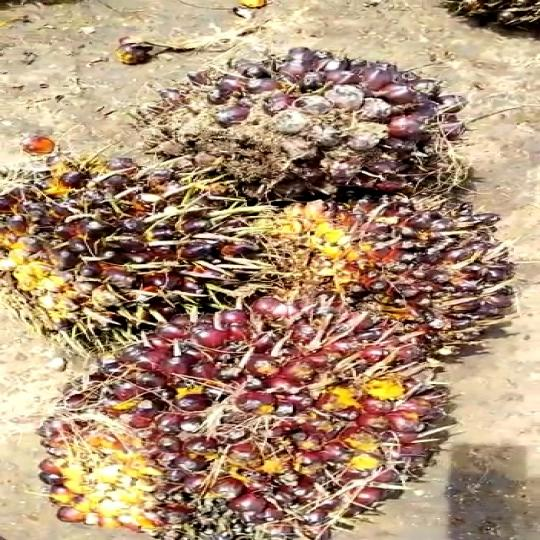kurang masak: (58, 299, 458, 532), (0, 139, 275, 356), (112, 43, 450, 207), (240, 196, 526, 370)
